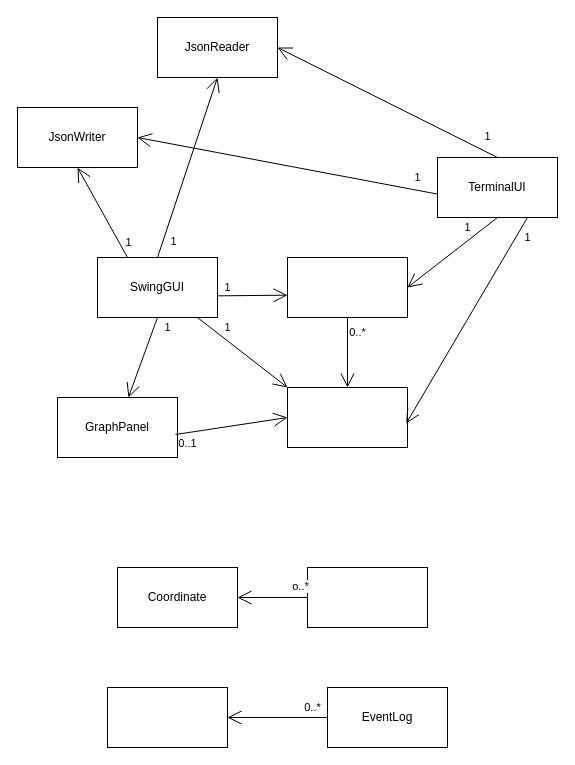
Some shapes in this 575 by 765 pixel diagram are drawn without their labels. The centre of each missing label's shape, as x and y in pixels:
Curve: the point at 367,597
Event: the point at 167,717
Function: the point at 347,417
FunctionHistory: the point at 347,287
